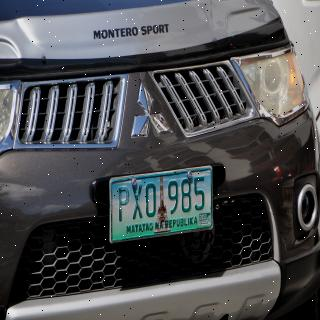license: (110, 167, 214, 244)
